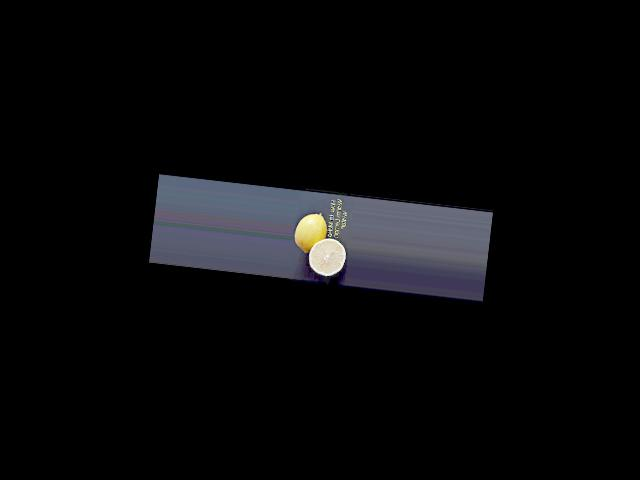lemon: (292, 209, 326, 253)
